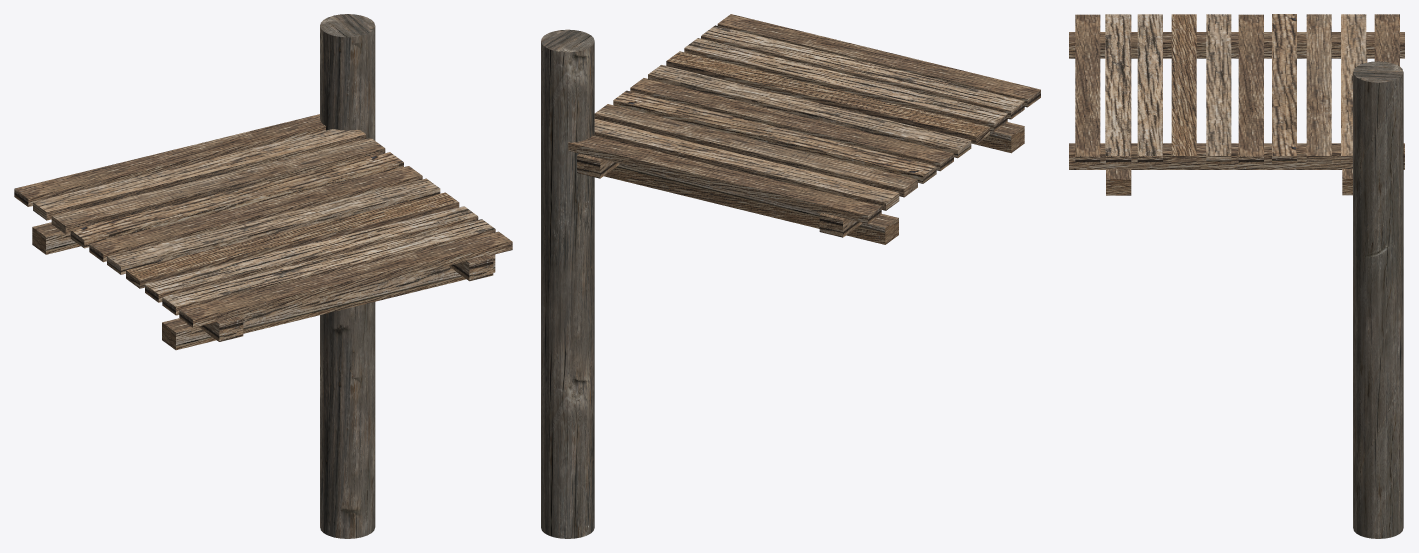
Rendered from KitTablaMadera1.fbx.
3 renders of one model, left to right at view 1: azimuth 30°, elevation 25°; view 2: azimuth 150°, elevation 25°; view 3: azimuth 270°, elevation 25°, orthographic. The views are drawn at different scales.
Visible parts, largest first — view 1: Cube.001, Columna6x0.3, Viga2, Viga; view 2: Cube.001, Columna6x0.3, Viga, Viga2; view 3: Cube.001, Columna6x0.3, Viga2.
Part boxes in pixels (<box>): Cube.001: <box>14,114,512,341</box>; Columna6x0.3: <box>320,14,375,538</box>; Viga2: <box>162,254,495,350</box>; Viga: <box>32,222,80,254</box>; Cube.001: <box>568,14,1040,237</box>; Columna6x0.3: <box>541,29,594,538</box>; Viga: <box>604,163,898,244</box>; Viga2: <box>976,122,1024,153</box>; Cube.001: <box>1069,14,1404,169</box>; Columna6x0.3: <box>1353,61,1403,538</box>; Viga2: <box>1106,169,1131,195</box>.
Size of the model in its own units: 433 by 600 by 400.
2 materials, 2 textured.
